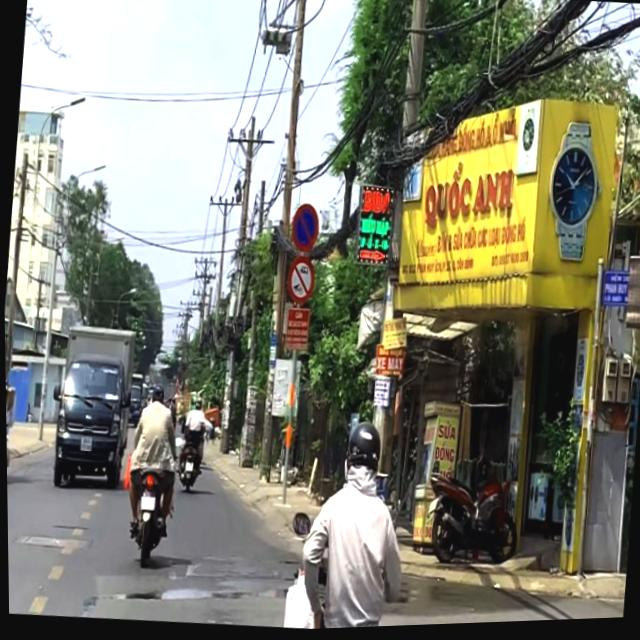Cam do xe: (286, 201, 322, 255)
